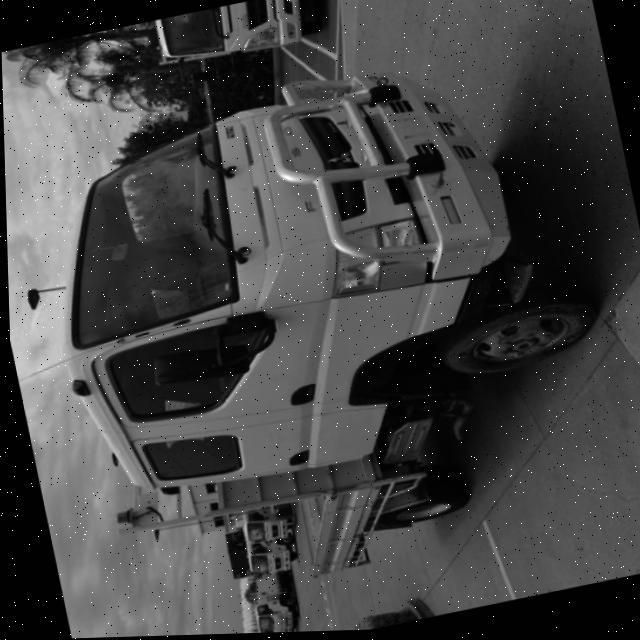truck: (1, 31, 633, 626)
